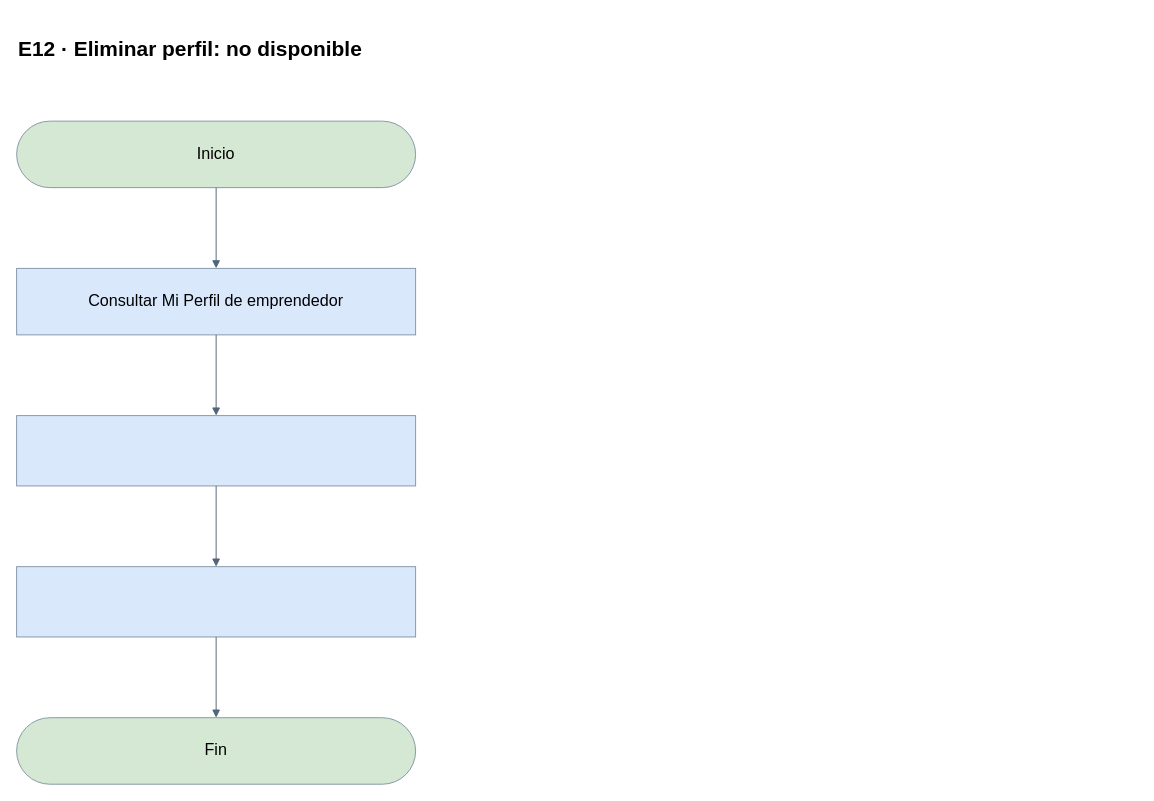
Some shapes in this 1154 by 801 pixel diagram are drawn without their labels. Here are the shapes that lost their labels. From the top down, the centre of each, then its label:
the point at 216,450: La pantalla no muestra un botón para eliminar el perfil
the point at 216,601: No se puede iniciar esta operación desde la web actual
